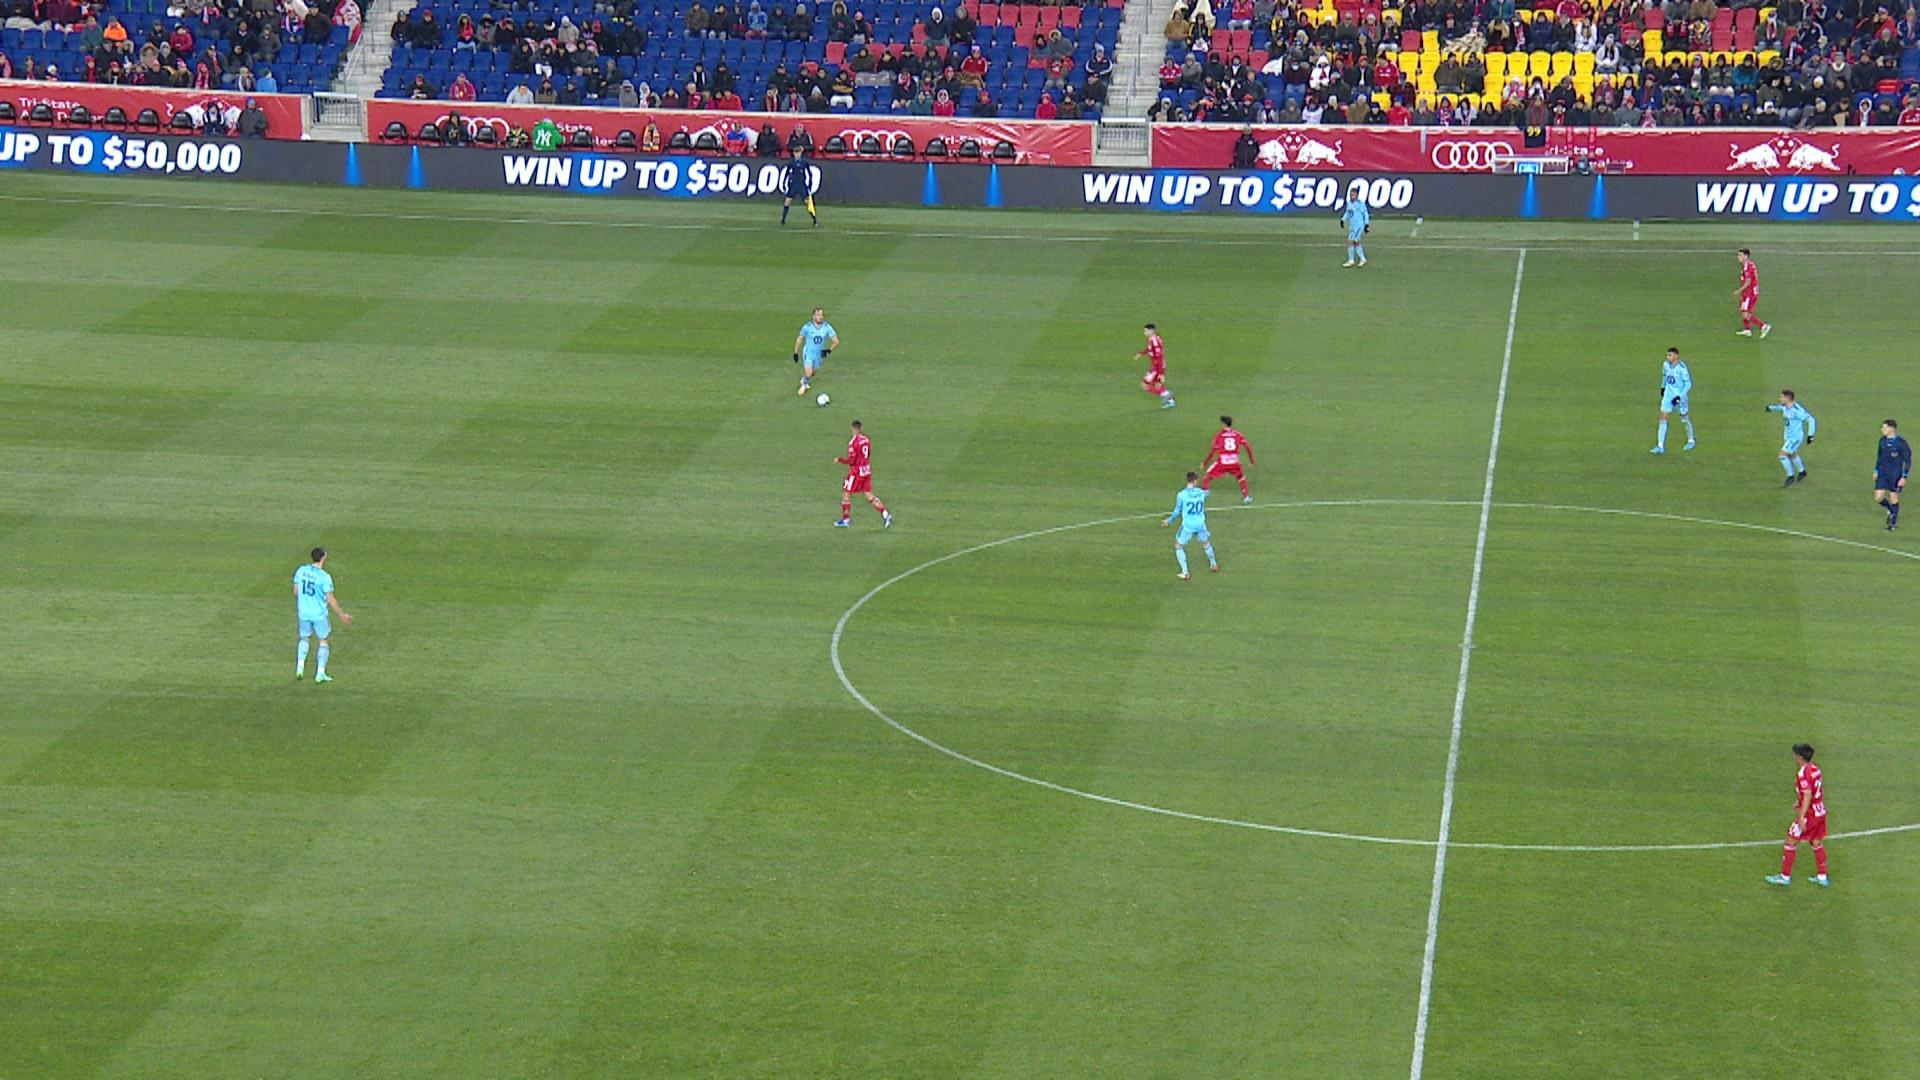football: (816, 392, 831, 407)
